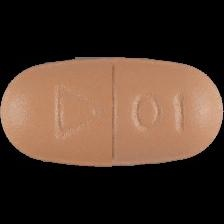53808-0807: (0, 0, 224, 224)
